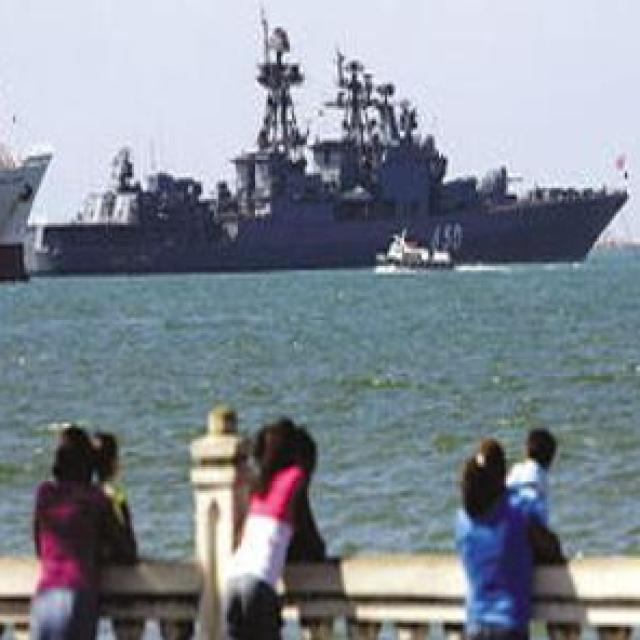houseboat: (370, 229, 460, 269)
navalvessels: (44, 29, 628, 263)
